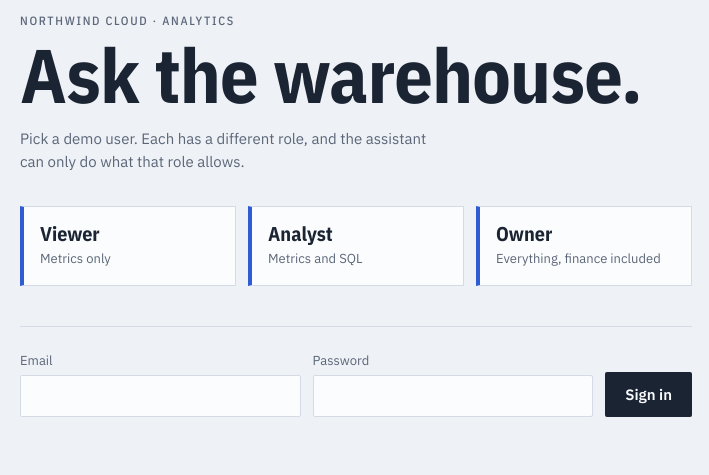
Test case: login shows the error it gets
Type "x@demo.local" into the field labelled "Email".
click(160, 396); type("x@demo.local")  # box x1=20 y1=375 x2=301 y2=417
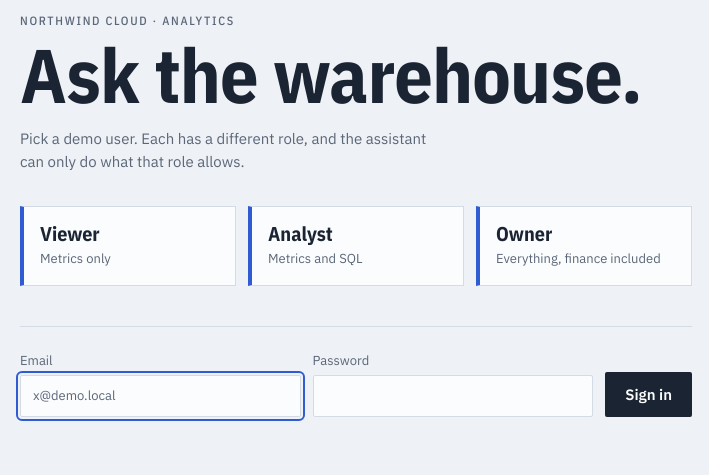
Type "nope" into the password field labelled "Password".
click(453, 396); type("nope")  # box x1=313 y1=375 x2=593 y2=417
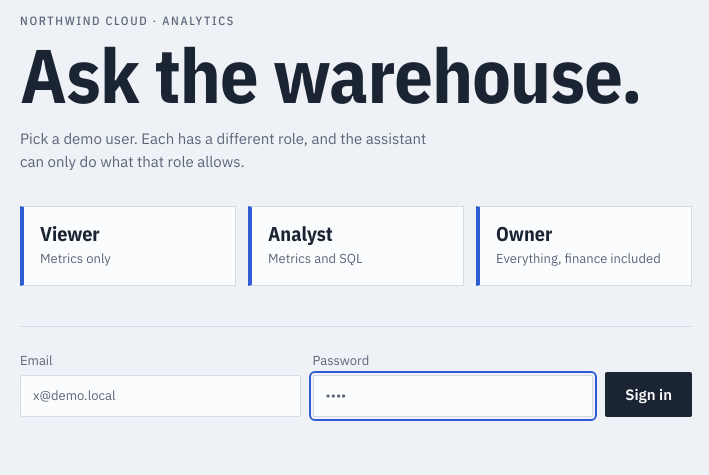
Click the button "Sign in".
click(649, 395)  # box x1=605 y1=372 x2=692 y2=417
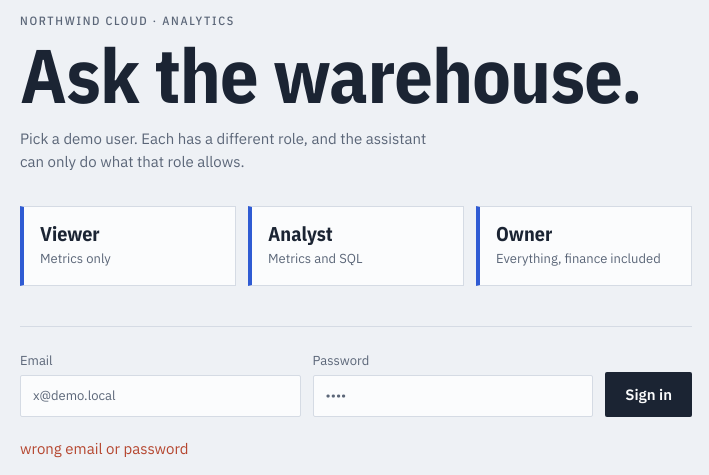
expect the message reads "wrong email or password": met, box x1=20 y1=439 x2=188 y2=458
